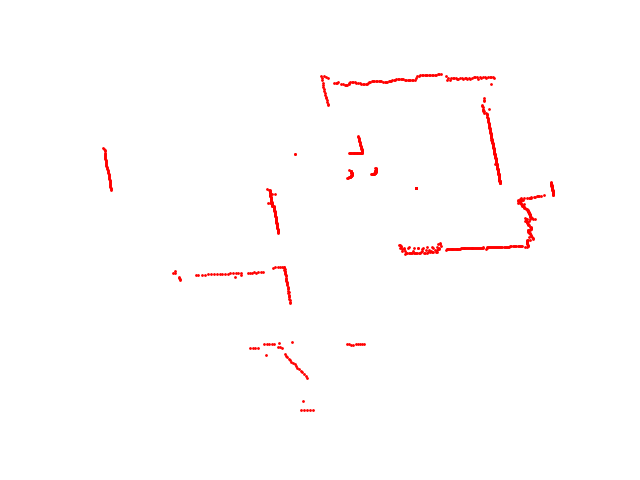person: (345, 165, 380, 181)
